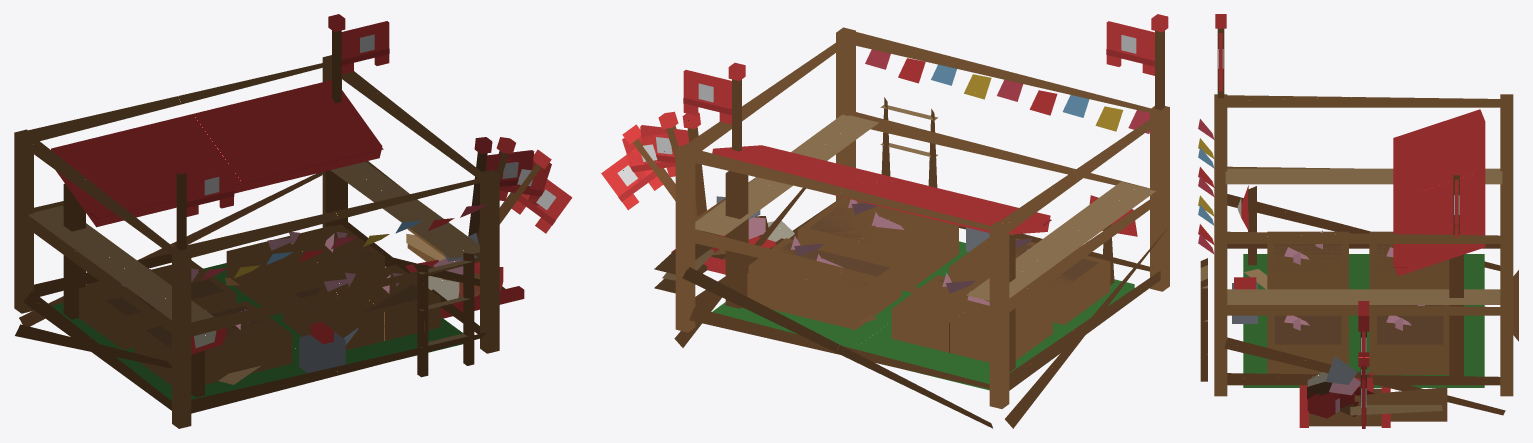
The model's file is robin-producer_lod1.glb.
The picture shows the model from 3 angles, left to right: view 1: azimuth 30°, elevation 25°; view 2: azimuth 150°, elevation 25°; view 3: azimuth 270°, elevation 25°; orthographic projection. The views are drawn at different scales.
Visible parts, largest first — view 1: scaffold-mesh, built-mesh, dismantle-50-mesh, dismantle-75-mesh, banner, scaffold-banner, dismantle-25-mesh, dismantle-25-banner, scaffold-flag-pole, dismantle-75-banner, flag-pole, dismantle-50-banner (+2 smaller); view 2: scaffold-mesh, dismantle-50-mesh, built-mesh, dismantle-75-mesh, banner, scaffold-banner, dismantle-25-banner, dismantle-50-banner, dismantle-75-banner, scaffold-flag-pole, flag-pole, dismantle-25-mesh (+2 smaller); view 3: scaffold-mesh, built-mesh, dismantle-50-mesh, dismantle-75-mesh, dismantle-25-mesh, scaffold-flag-pole, flag-pole.
Part boxes in pixels (x1,y1,x2,y2): scaffold-mesh: (14,55,499,428); built-mesh: (51,80,440,384); dismantle-50-mesh: (72,206,479,397); dismantle-75-mesh: (51,170,479,400); banner: (341,21,389,74); scaffold-banner: (186,163,234,216); dismantle-25-mesh: (225,233,524,372); dismantle-25-banner: (511,179,572,233); scaffold-flag-pole: (173,156,189,250); dismantle-75-banner: (485,150,534,188); flag-pole: (328,14,345,103); dismantle-50-banner: (499,158,551,205); scaffold-mesh: (654,27,1169,428); dismantle-50-mesh: (714,197,1137,390); built-mesh: (712,145,1137,372); dismantle-75-mesh: (711,195,1136,390); banner: (683,70,731,124); scaffold-banner: (1106,21,1154,75); dismantle-25-banner: (601,148,663,210); dismantle-50-banner: (622,133,675,181); dismantle-75-banner: (640,125,689,164); scaffold-flag-pole: (1151,14,1168,110); flag-pole: (728,62,745,173); dismantle-25-mesh: (671,196,1012,323); scaffold-mesh: (1198,94,1518,421); built-mesh: (1241,109,1485,330); dismantle-50-mesh: (1232,213,1449,416); dismantle-75-mesh: (1232,185,1484,416); dismantle-25-mesh: (1276,351,1449,427); scaffold-flag-pole: (1215,14,1226,98); flag-pole: (1451,160,1462,258).
Size of the model in its own units: 2.71 by 1.55 by 1.73.
